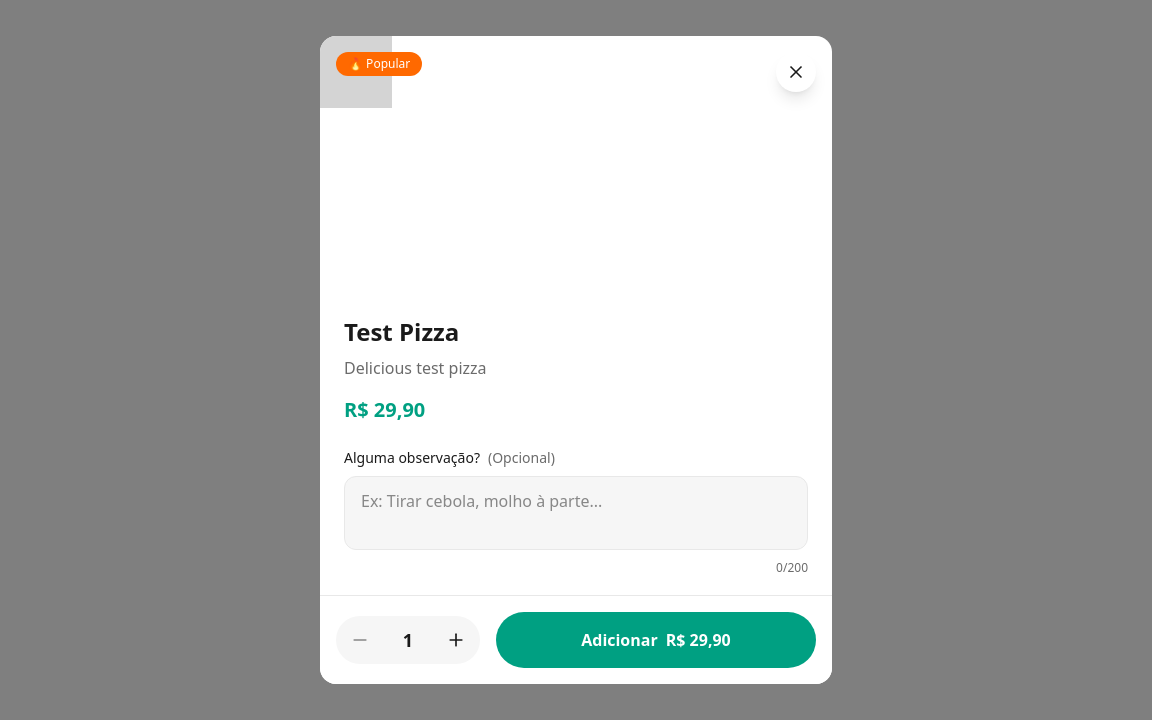
Scenario: MenuItemModal › should increment quantity
Click the button named "aumentar".
click(456, 640)  # box x1=436 y1=620 x2=476 y2=660
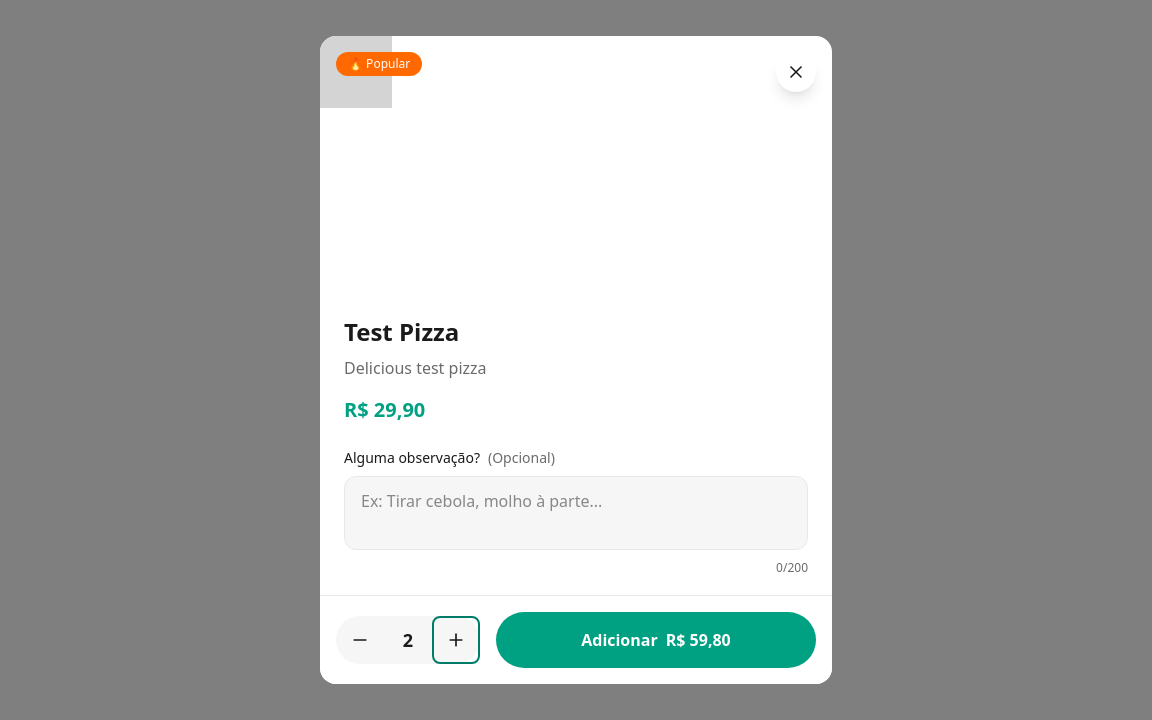
expect the text "2" is shown: met, box x1=403 y1=628 x2=413 y2=652
